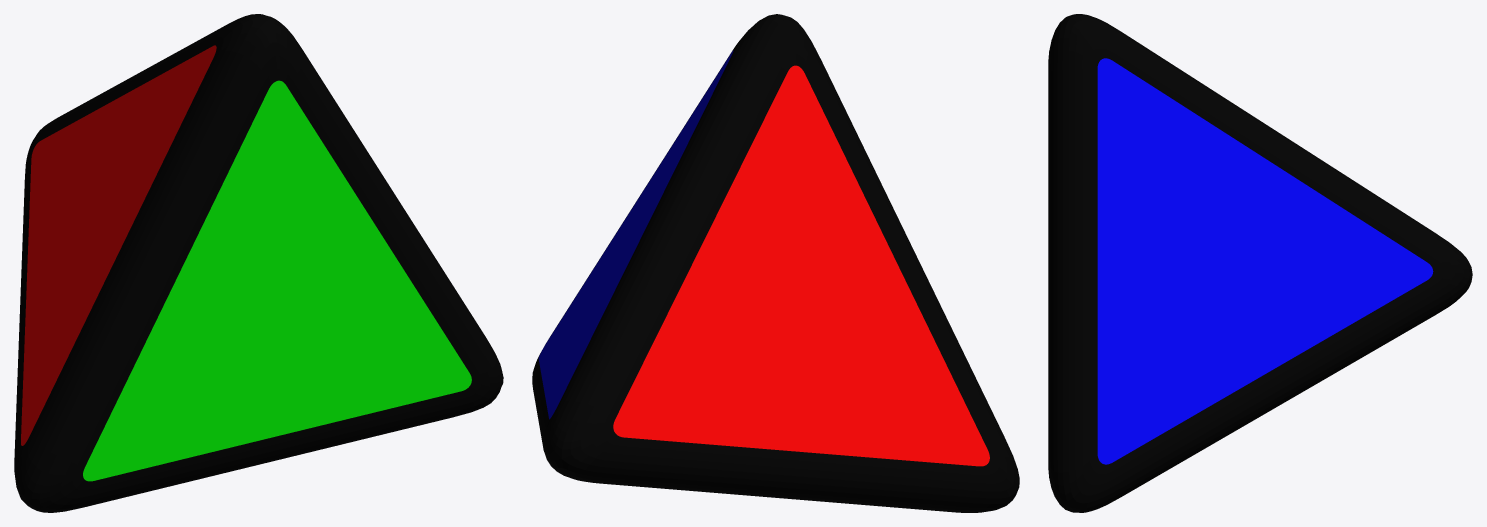
The model's file is t_bgr.fbx.
3 views of the same model, side by side, from view 1: azimuth 30°, elevation 25°; view 2: azimuth 150°, elevation 25°; view 3: azimuth 270°, elevation 25° (orthographic). The views are drawn at different scales.
Parts seen in each view (by area): view 1: t_bgr; view 2: t_bgr; view 3: t_bgr.
Boxes of the visible parts, bbox=[...] form: t_bgr: bbox=[14, 14, 503, 512]; t_bgr: bbox=[532, 14, 1019, 512]; t_bgr: bbox=[1048, 14, 1472, 512].
Bounding box in the file's own units: 135 × 121 × 115.
